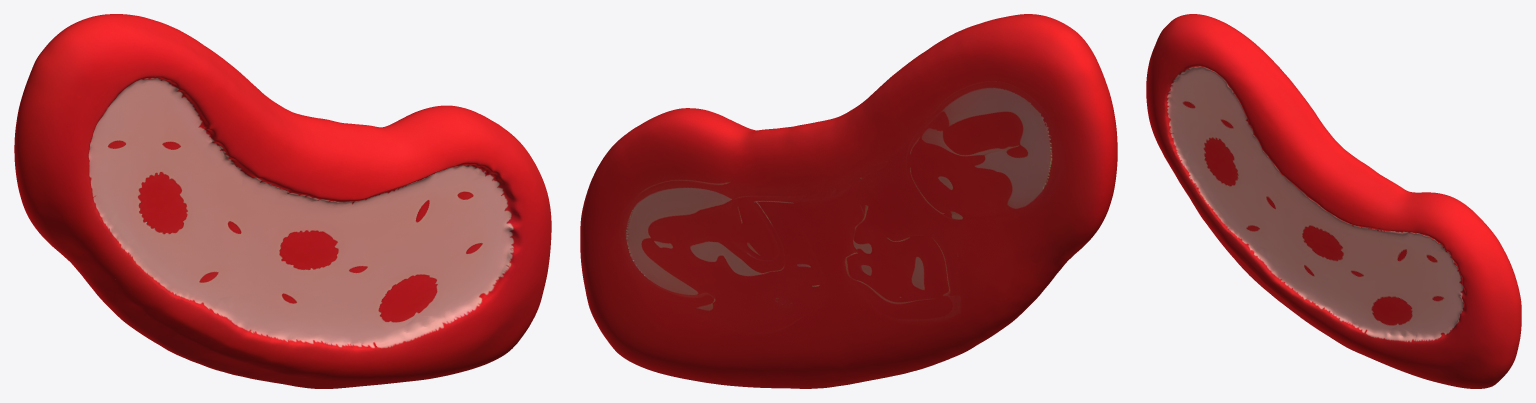
File: base_basic_pbr.fbx
The picture shows the model from 3 angles, left to right: view 1: azimuth 30°, elevation 25°; view 2: azimuth 150°, elevation 25°; view 3: azimuth 330°, elevation 25°; orthographic projection. The views are drawn at different scales.
Parts seen in each view (by area): view 1: model; view 2: model; view 3: model.
Part boxes in pixels (x1,y1,x2,y2): model: (14,14,551,388); model: (580,14,1117,388); model: (1146,14,1521,388).
Size of the model in its own units: 171 by 135 by 22.7.
1 material, 1 textured.
